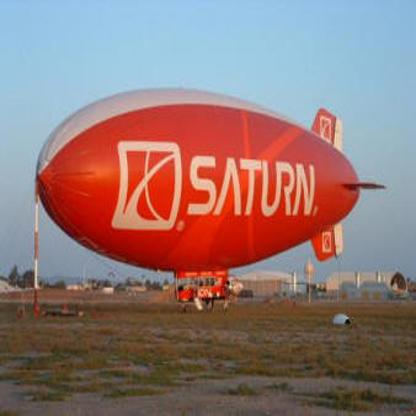Airship: (31, 93, 389, 299)
